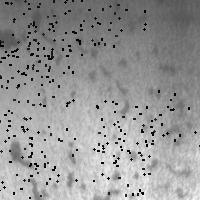pitted_surface: (31, 8, 166, 185), (145, 2, 196, 199), (23, 0, 83, 58), (96, 100, 154, 160), (13, 48, 72, 105), (93, 138, 152, 194), (21, 126, 76, 182), (0, 28, 51, 87), (0, 0, 53, 51), (66, 0, 125, 45), (153, 90, 200, 146), (0, 155, 52, 200), (94, 0, 154, 35), (0, 95, 32, 153), (5, 135, 37, 172), (1, 25, 29, 53)
